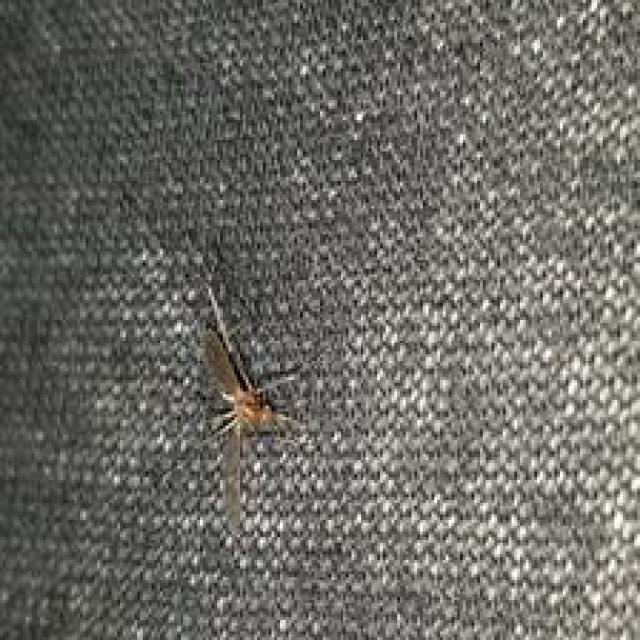Culex: (199, 283, 304, 537)
